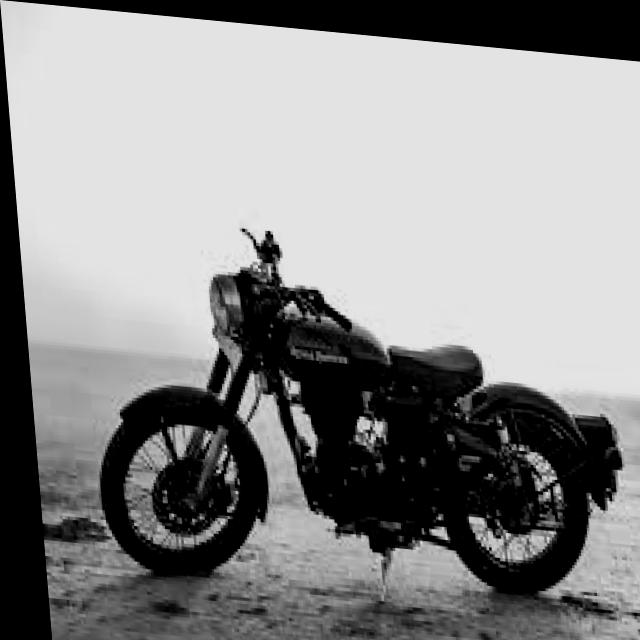bike: (63, 191, 627, 636)
